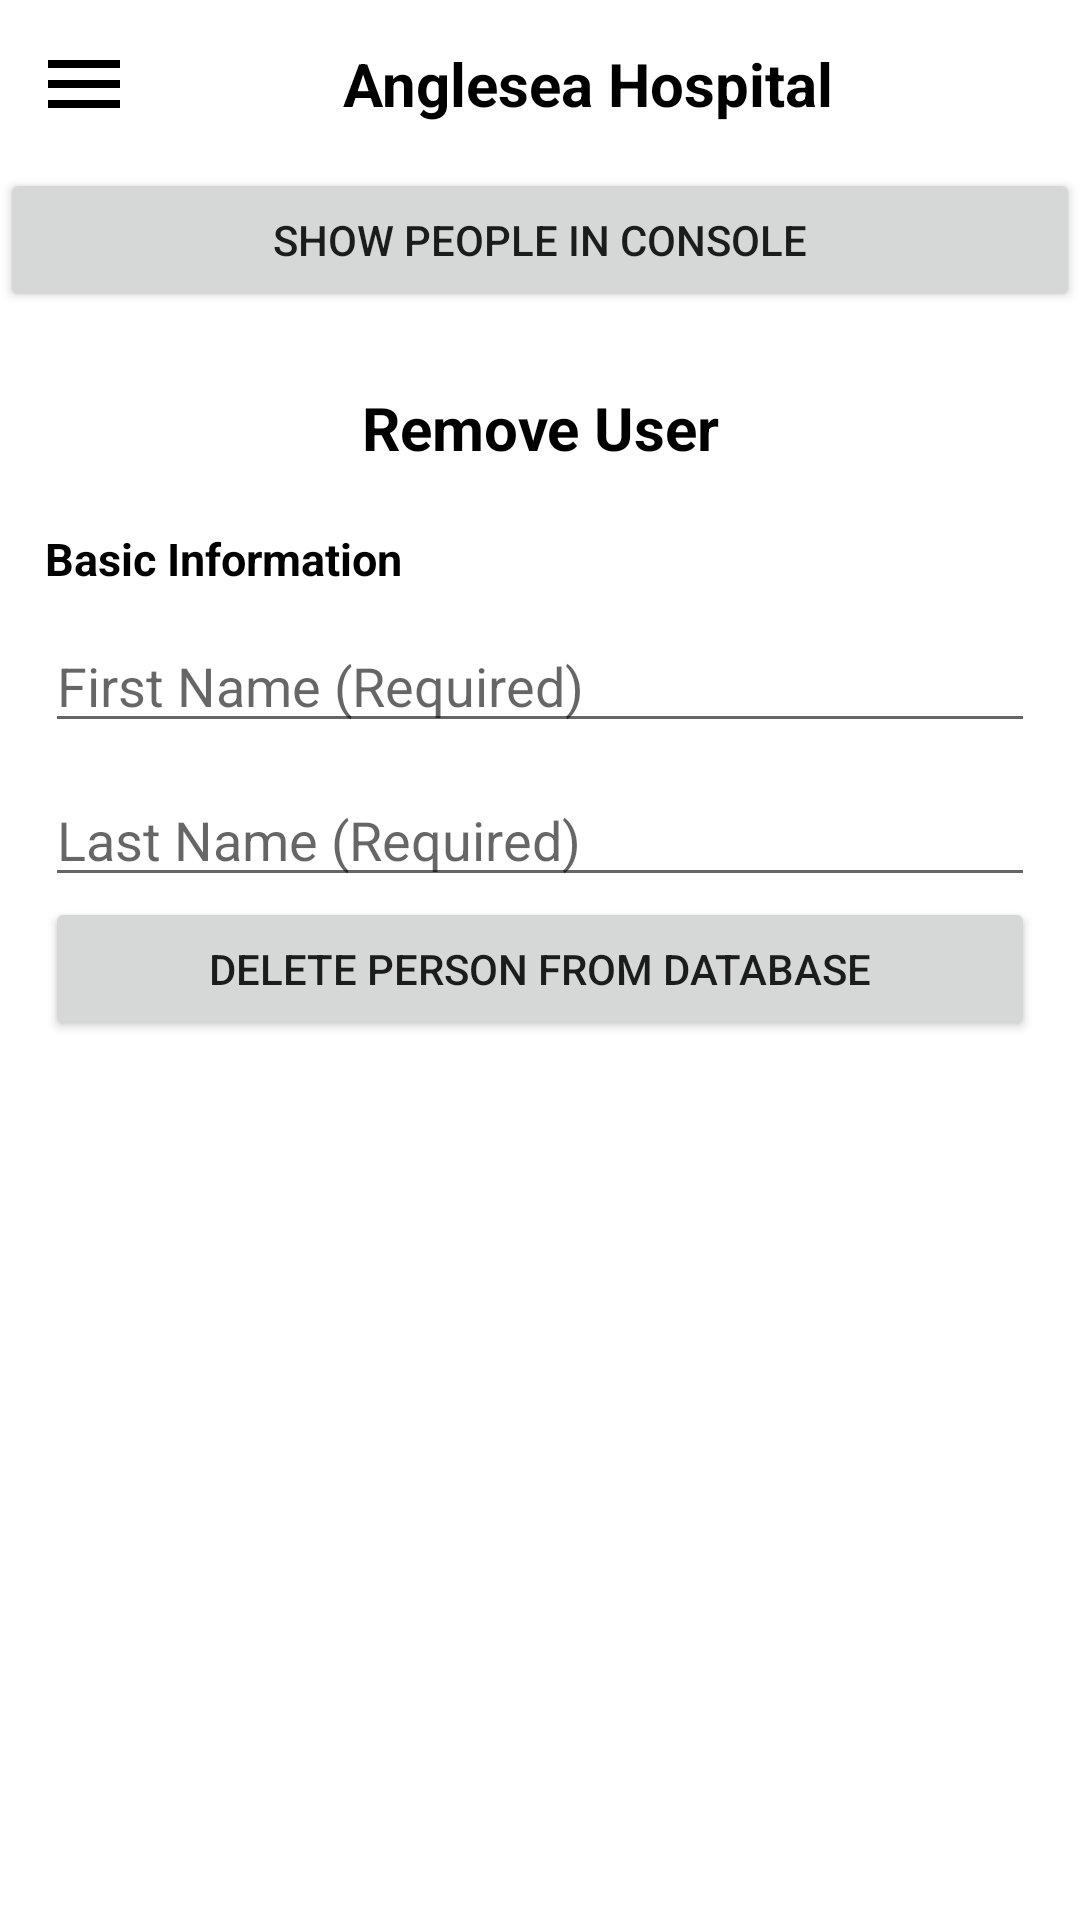

Locate icon controls on the screen. Image size 1080×1920, boxes as [x1, y1, x2, y2].
menu: [48, 60, 120, 108]
